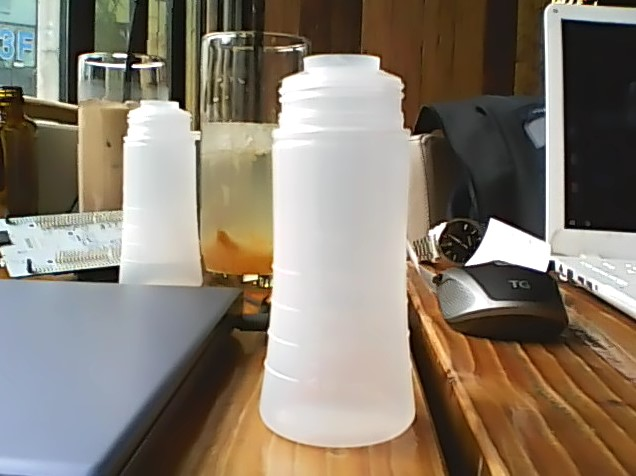Plastic: (258, 48, 424, 450)
